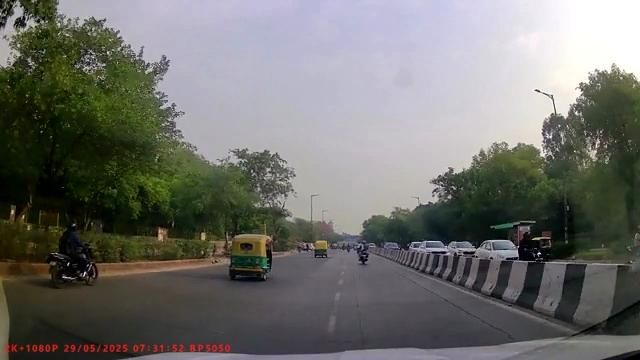motorcycle_with_helmet: (47, 221, 99, 290)
